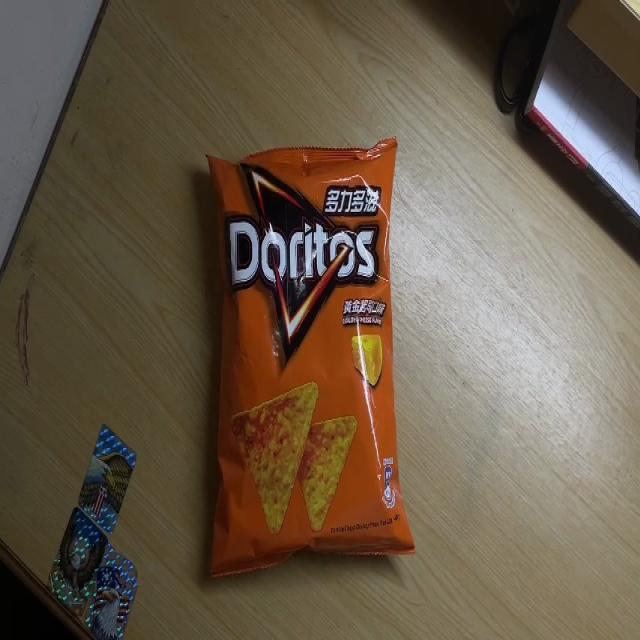Doritos: (204, 135, 416, 572)
